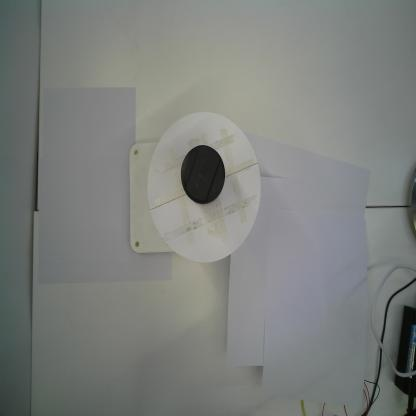Canned Food: (180, 144, 226, 206)
